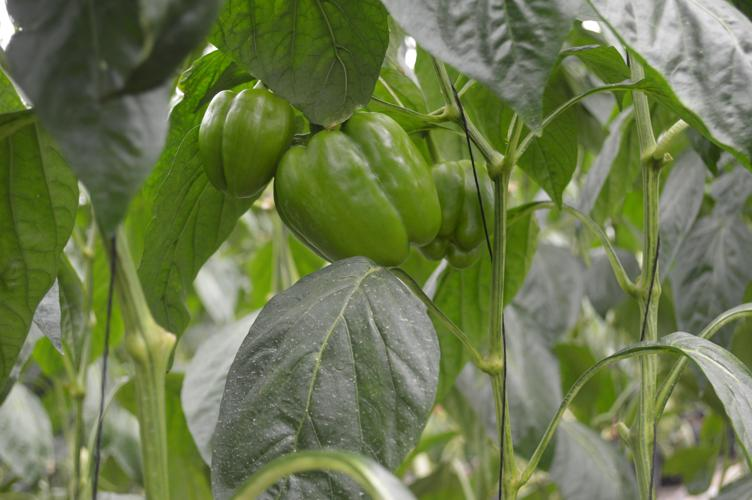BellPepper: (271, 110, 440, 262), (197, 90, 291, 194), (409, 162, 491, 266)
